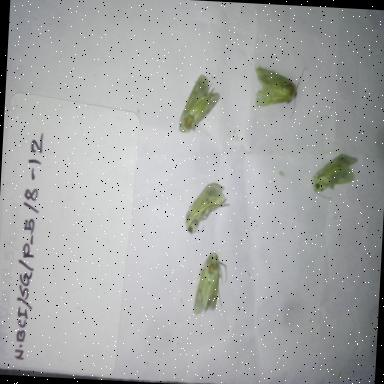abw: (173, 68, 225, 141), (250, 62, 310, 122), (178, 176, 234, 239), (304, 148, 362, 204), (186, 248, 231, 319)
